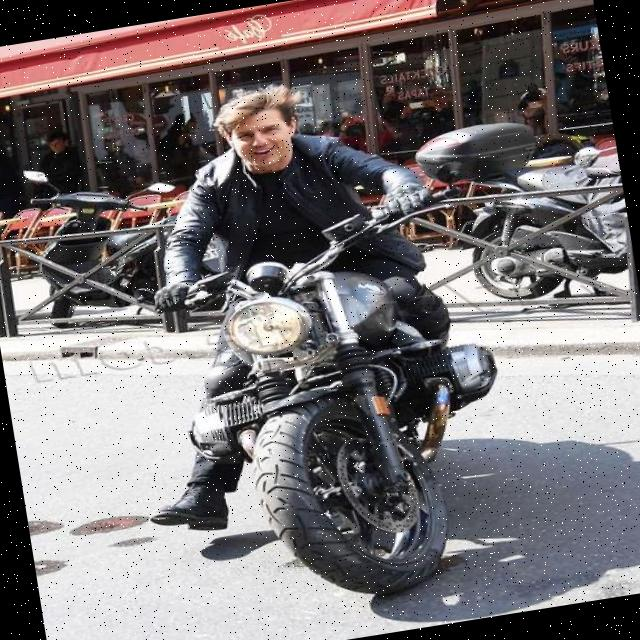No helmet: (212, 84, 314, 194)
